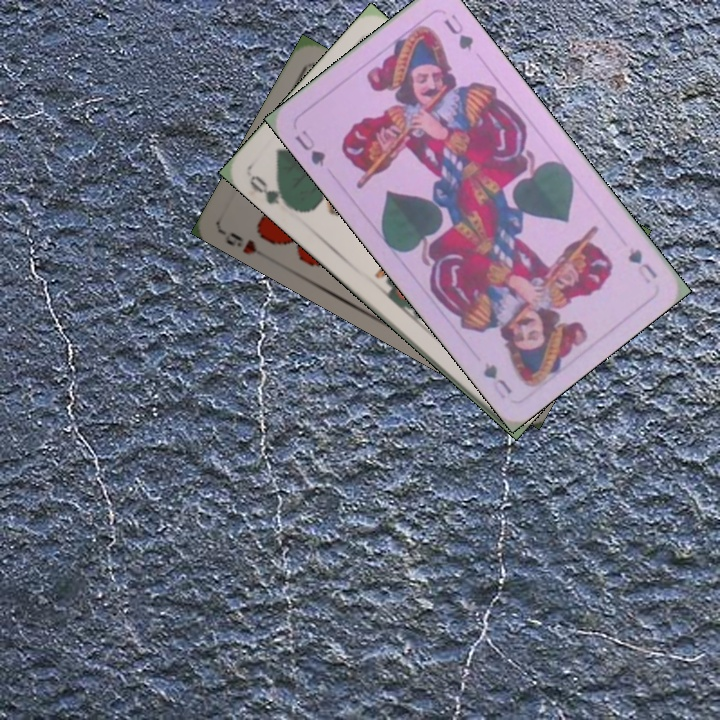GO: (245, 171, 298, 213)
GU: (290, 125, 328, 170), (624, 243, 660, 286)
H9: (222, 228, 260, 257)
